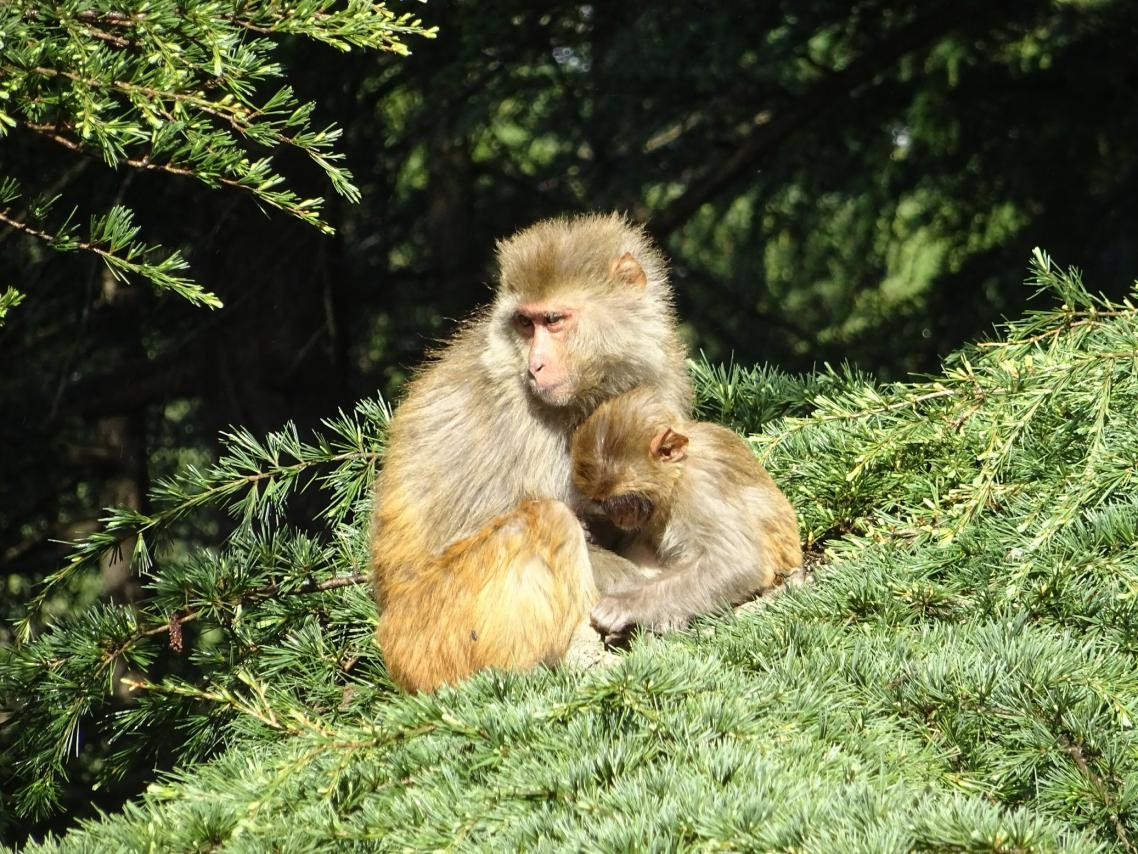monkey: (355, 200, 823, 692), (558, 374, 822, 634)
